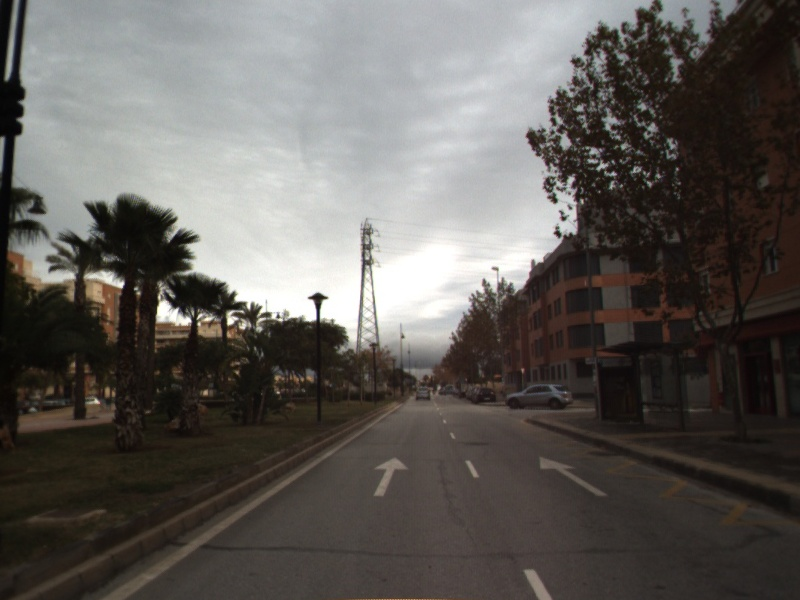STRAIGHT: (538, 455, 610, 498), (372, 455, 411, 498)
